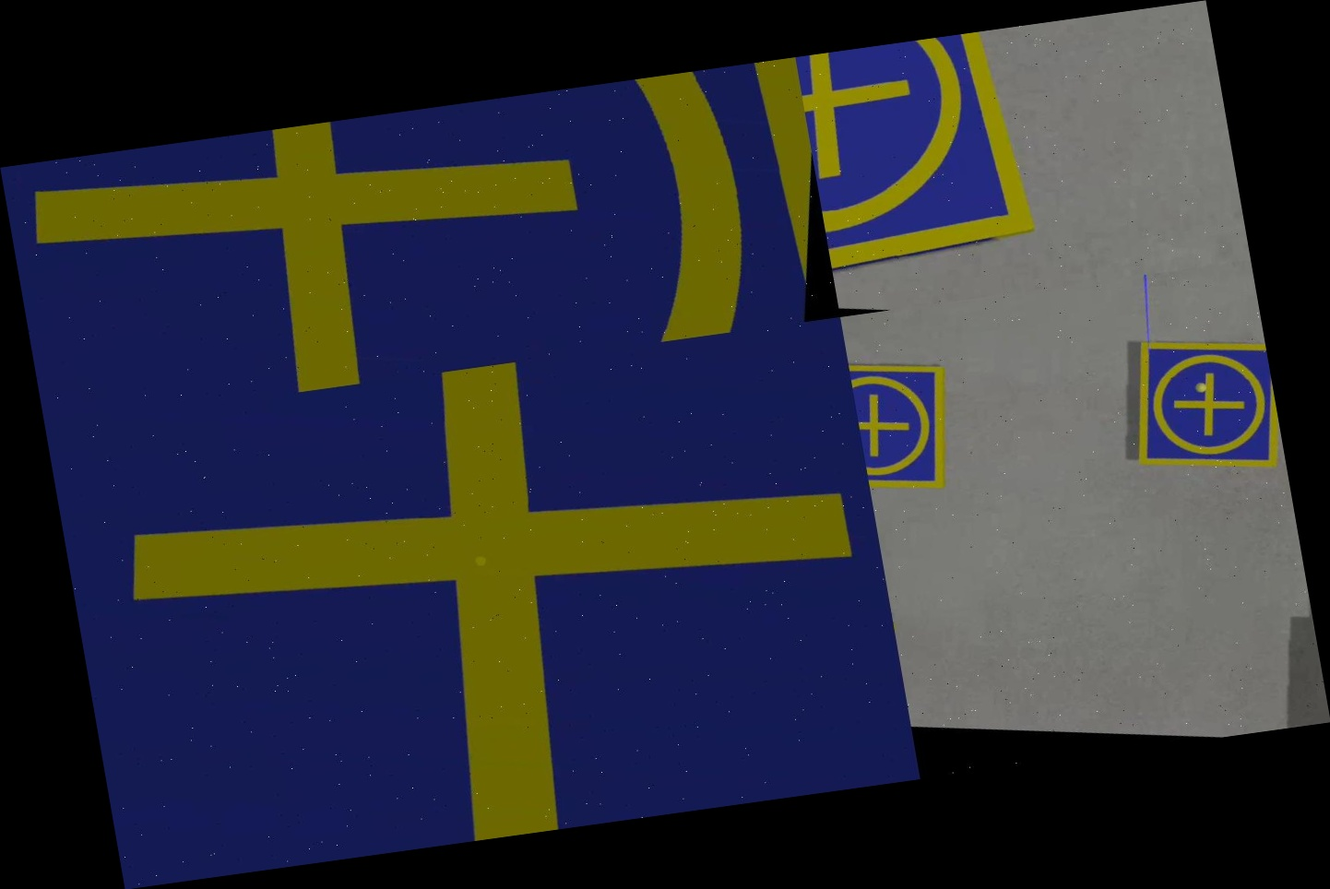large_base: (45, 317, 920, 889), (0, 57, 840, 427)
small_base: (795, 20, 1102, 317), (1112, 322, 1287, 491), (847, 341, 971, 503)
